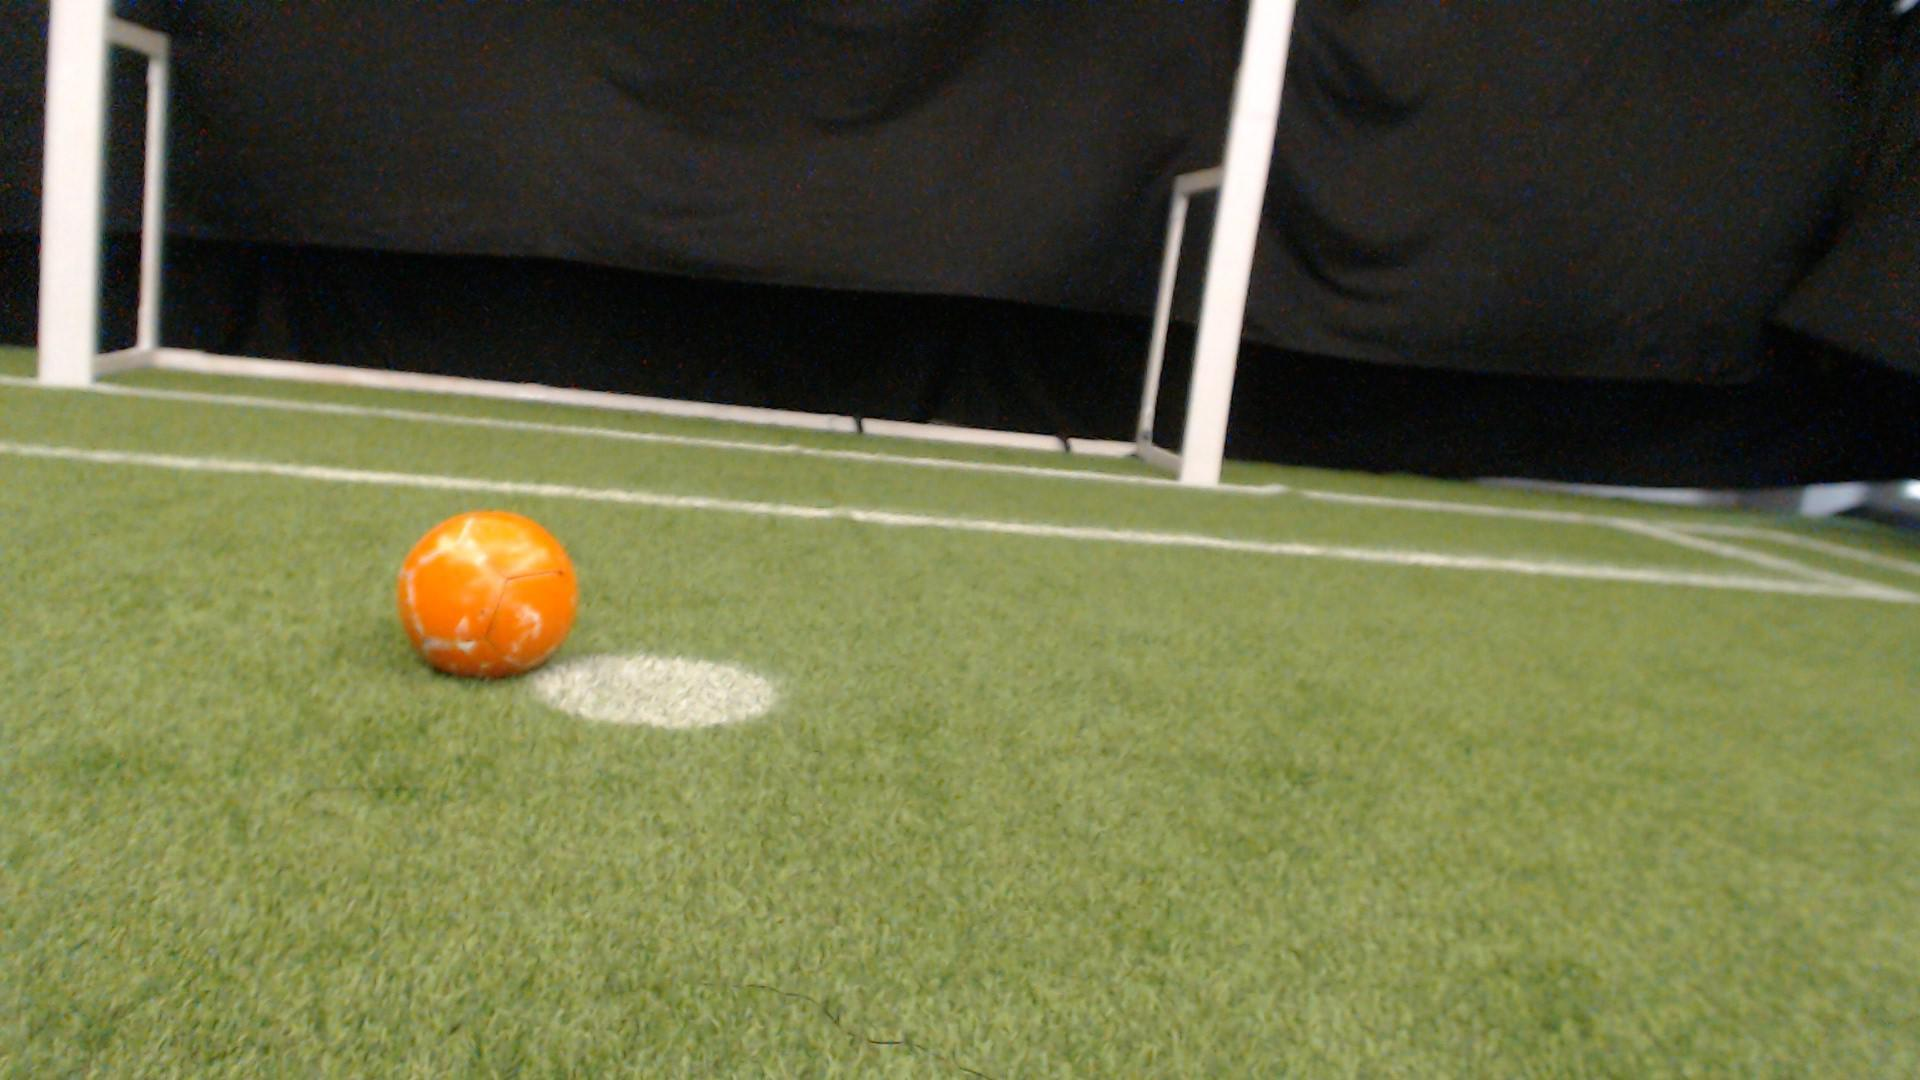bola: (381, 502, 593, 688)
